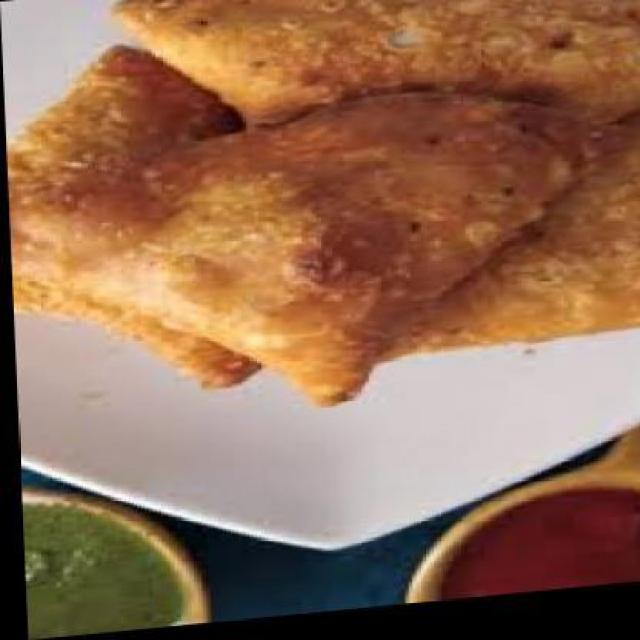samosa: (4, 81, 640, 435), (2, 36, 262, 407), (106, 0, 640, 175), (360, 128, 640, 372)
